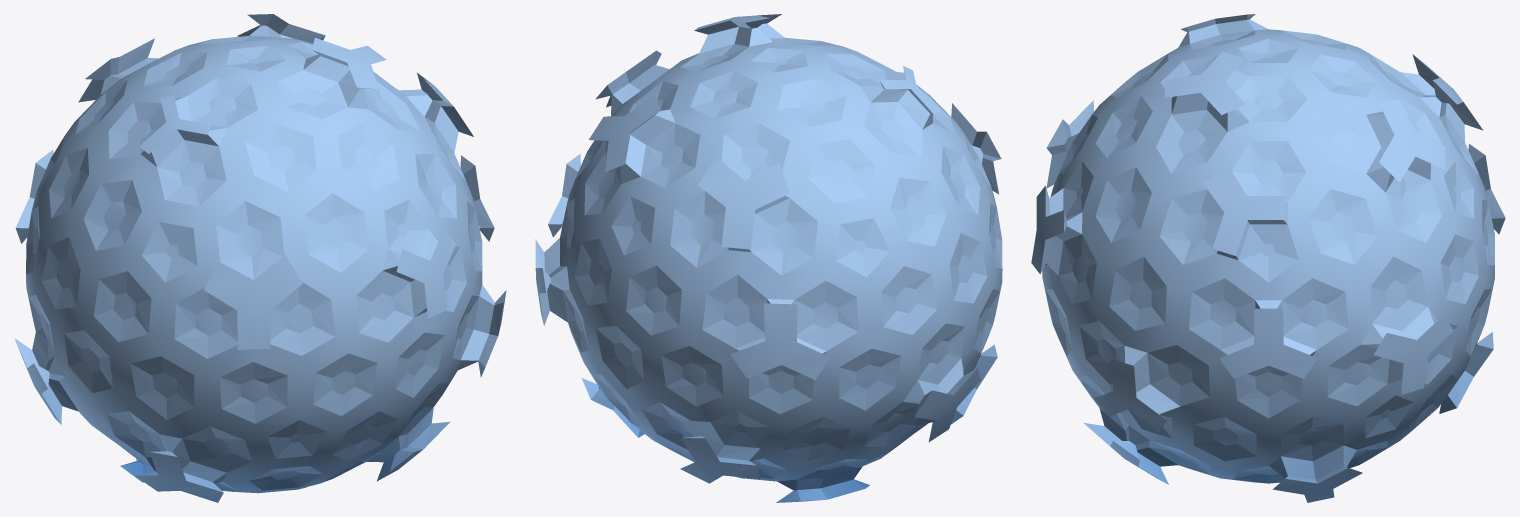
File: Wate_Planet_01.FBX
3 views of the same model, side by side, from view 1: azimuth 30°, elevation 25°; view 2: azimuth 150°, elevation 25°; view 3: azimuth 270°, elevation 25° (orthographic). The views are drawn at different scales.
Visible parts, largest first — view 1: Water_Planet; view 2: Water_Planet; view 3: Water_Planet.
Boxes of the visible parts, x1,y1,x2,y2 form: Water_Planet: (14, 14, 506, 502); Water_Planet: (535, 14, 1002, 502); Water_Planet: (1031, 14, 1505, 502).
Size of the model in its own units: 106 by 105 by 102.
Materials: 2 (2 with a texture image).
